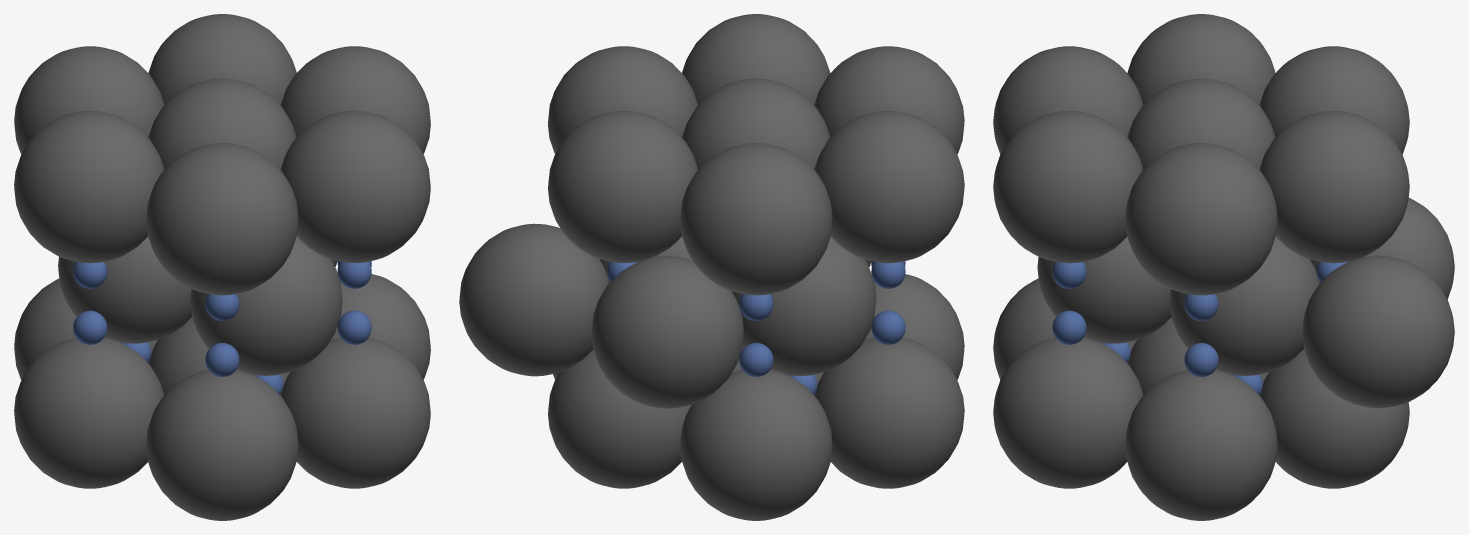
Rendered from Hdp_TL_erweitert.glb.
The picture shows the model from 3 angles, left to right: view 1: azimuth 30°, elevation 25°; view 2: azimuth 150°, elevation 25°; view 3: azimuth 270°, elevation 25°; orthographic projection.
Parts seen in each view (by area): view 1: Sphere.002, Sphere.001; view 2: Sphere.002, Sphere.001; view 3: Sphere.002, Sphere.001.
Boxes of the visible parts, left/top/right/bottom form: Sphere.002: left=14, top=14, right=430, bottom=520; Sphere.001: left=73, top=261, right=371, bottom=394; Sphere.002: left=459, top=14, right=964, bottom=520; Sphere.001: left=607, top=261, right=905, bottom=394; Sphere.002: left=993, top=14, right=1454, bottom=520; Sphere.001: left=1052, top=262, right=1347, bottom=394.
Size of the model in its own units: 6 by 5.26 by 6.05.
